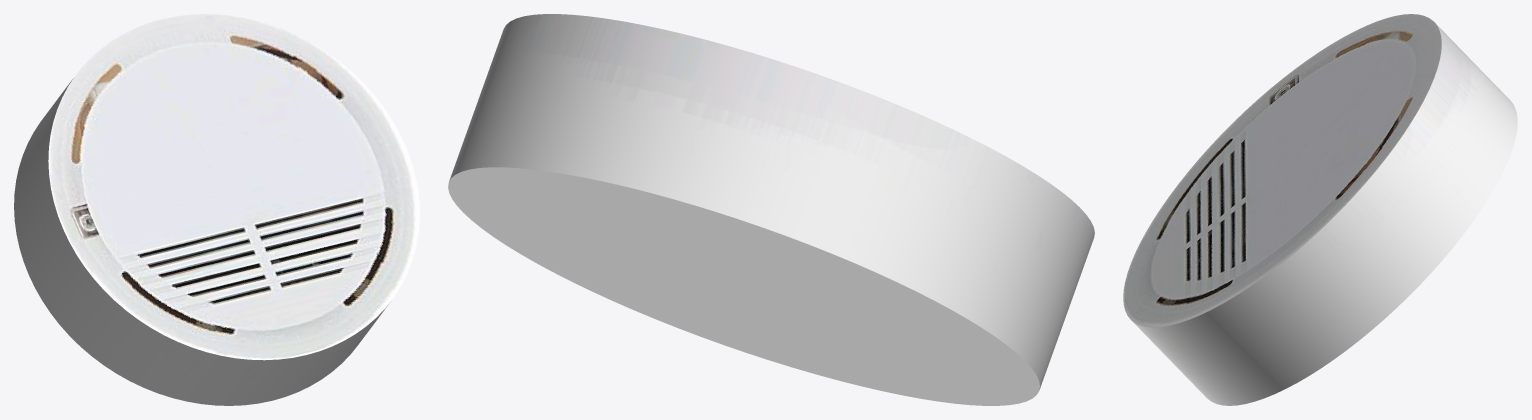
The model's file is yangan.fbx.
The picture shows the model from 3 angles, left to right: view 1: azimuth 30°, elevation 25°; view 2: azimuth 150°, elevation 25°; view 3: azimuth 270°, elevation 25°; orthographic projection. The views are drawn at different scales.
Visible parts, largest first — view 1: root; view 2: root; view 3: root.
Part boxes in pixels (bbox=[...]): root: bbox=[14, 14, 419, 405]; root: bbox=[448, 14, 1094, 405]; root: bbox=[1123, 14, 1517, 405].
Bounding box in the file's own units: 0.1371 × 0.1153 × 0.1241.
Materials: 1 (1 with a texture image).
